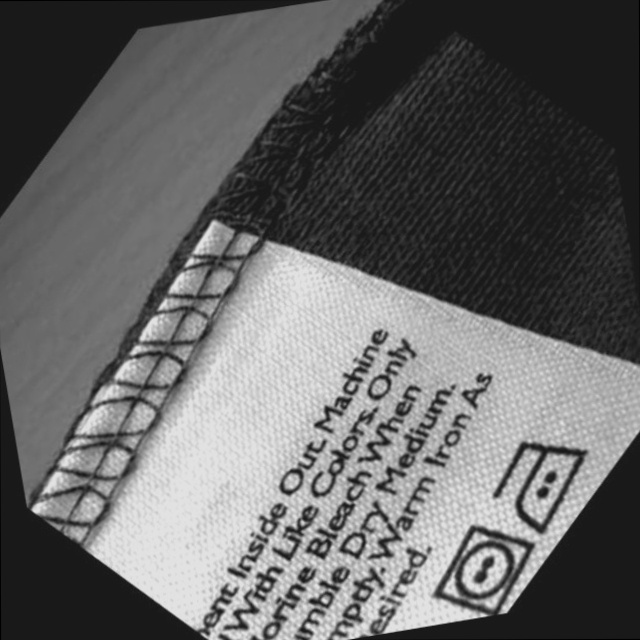iron_medium: (486, 429, 606, 538)
tumble_dry_medium: (425, 516, 548, 622)
